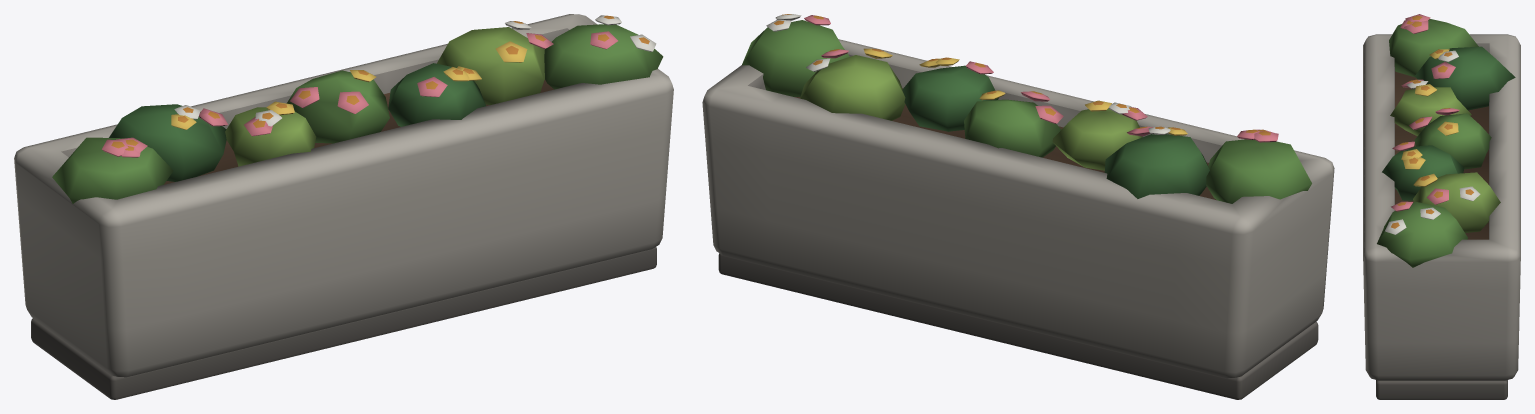
File: Planter2.fbx
The picture shows the model from 3 angles, left to right: view 1: azimuth 30°, elevation 25°; view 2: azimuth 150°, elevation 25°; view 3: azimuth 270°, elevation 25°; orthographic projection. The views are drawn at different scales.
Visible parts, largest first — view 1: Planter2; view 2: Planter2; view 3: Planter2.
Part boxes in pixels (x1,y1,x2,y2): Planter2: [14, 14, 673, 399]; Planter2: [702, 14, 1334, 399]; Planter2: [1363, 14, 1520, 399].
Bounding box in the file's own units: 2.05 × 0.767 × 0.5983.
